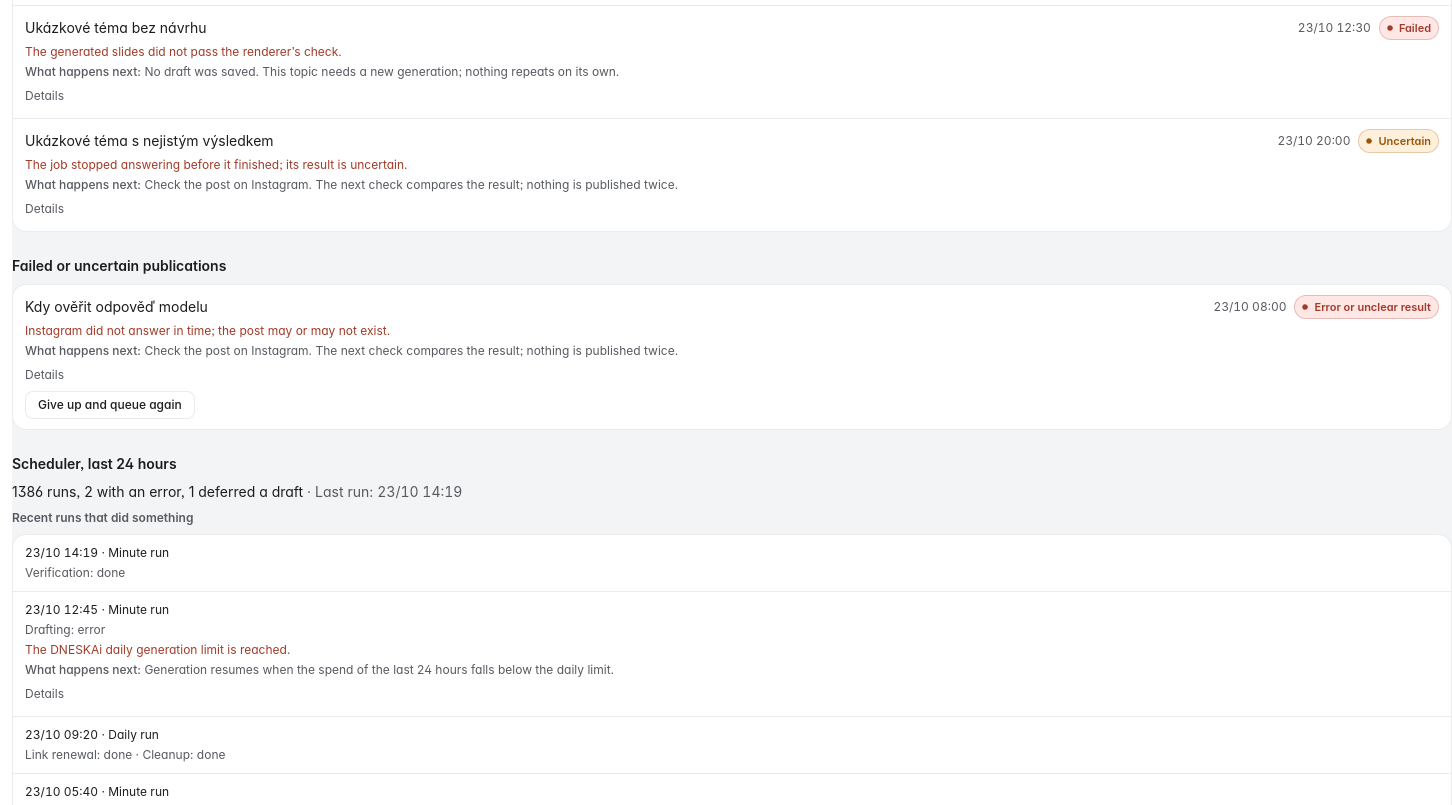
Test: Errors and costs keeps measured, booked and unknown apart › shows the server refusal code when queuing again is refused
(page scrolled)
Click the button "Give up and queue again" at (110, 405), box [25,391,195,419]
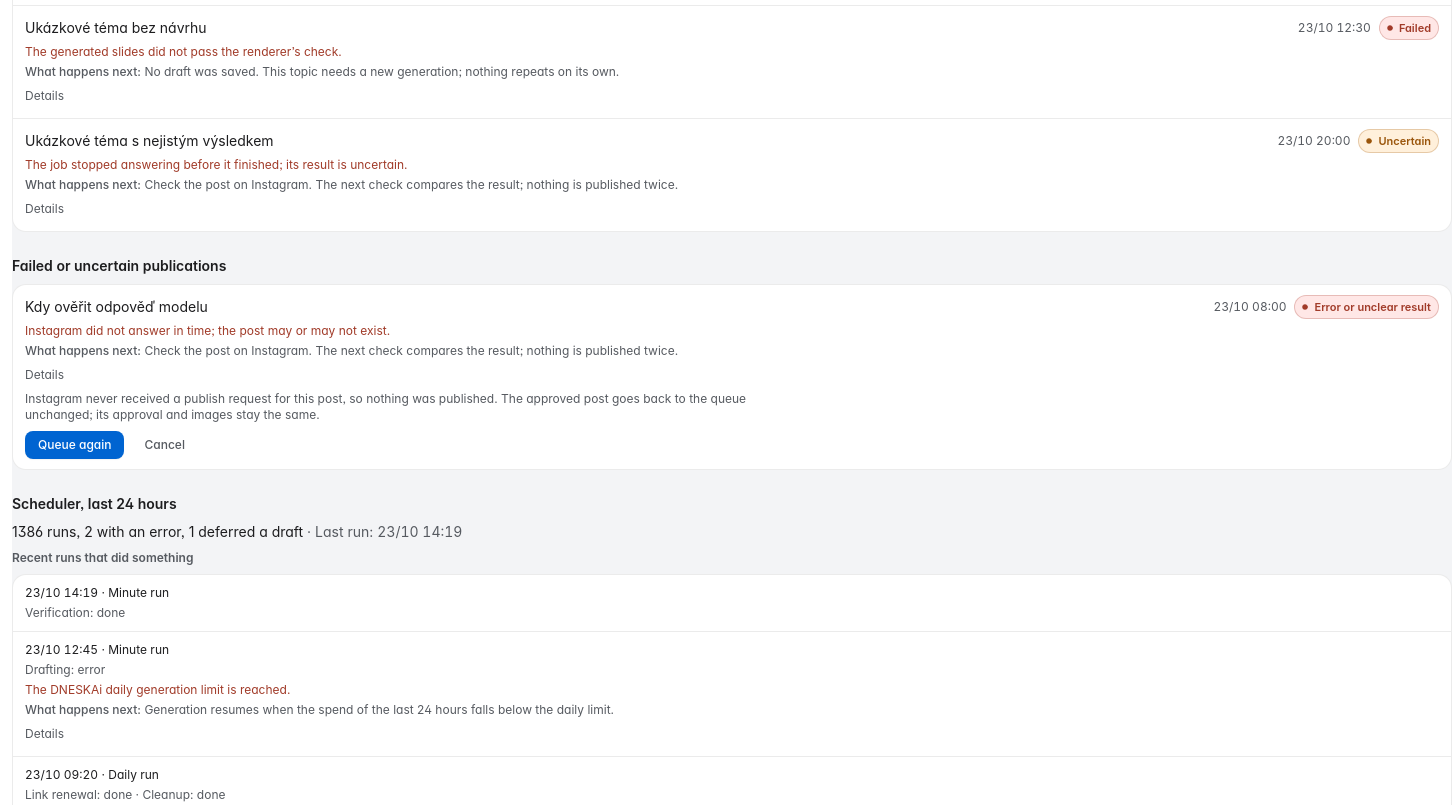
# The demo refuses as the server does for a row that may have reached media_publish.
Click the button "Queue again" at (75, 445), box [25,431,124,459]
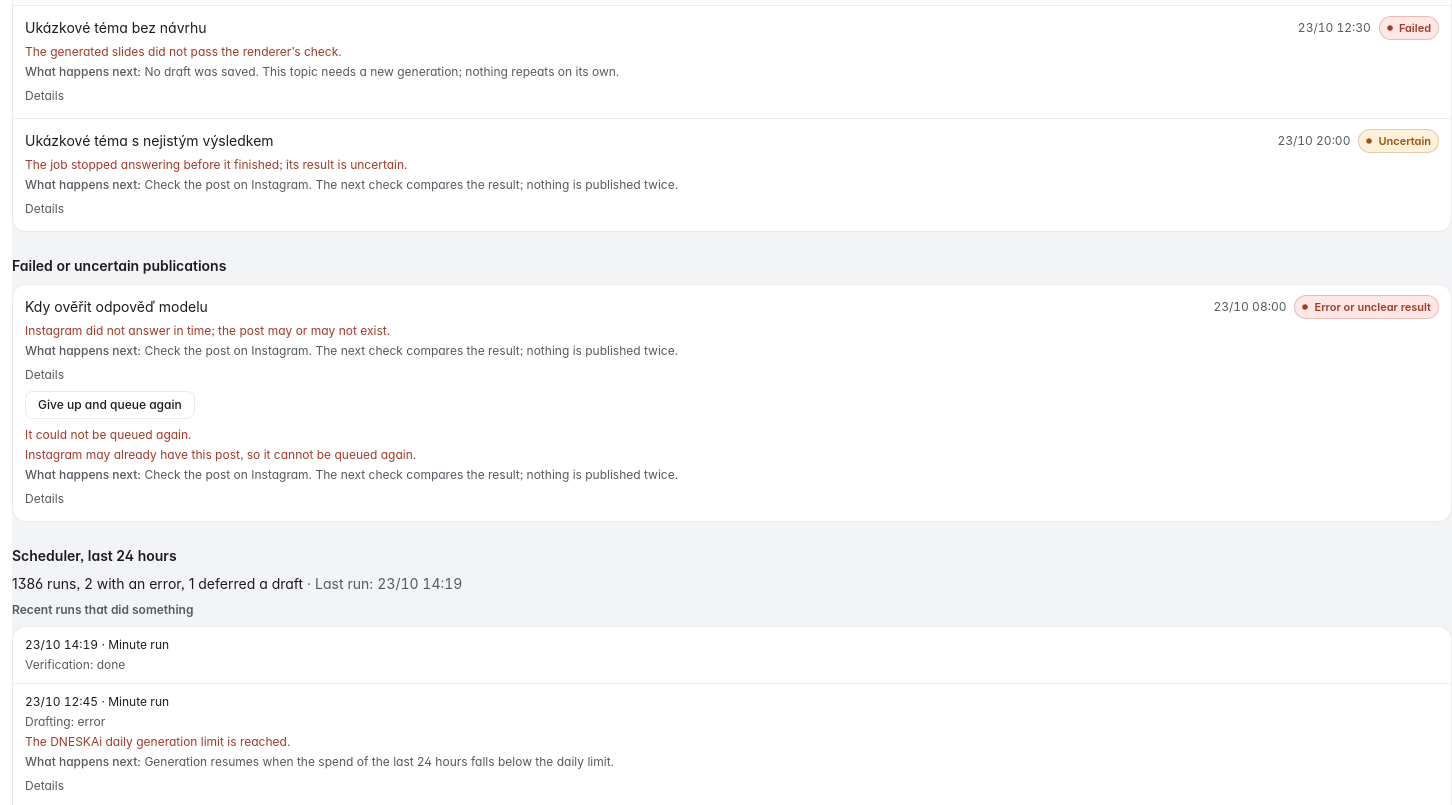
Expected: the message shows "It could not be queued again.", [25,427,192,442]
Expected: the message shows "Instagram may already have this post", [25,447,416,462]
